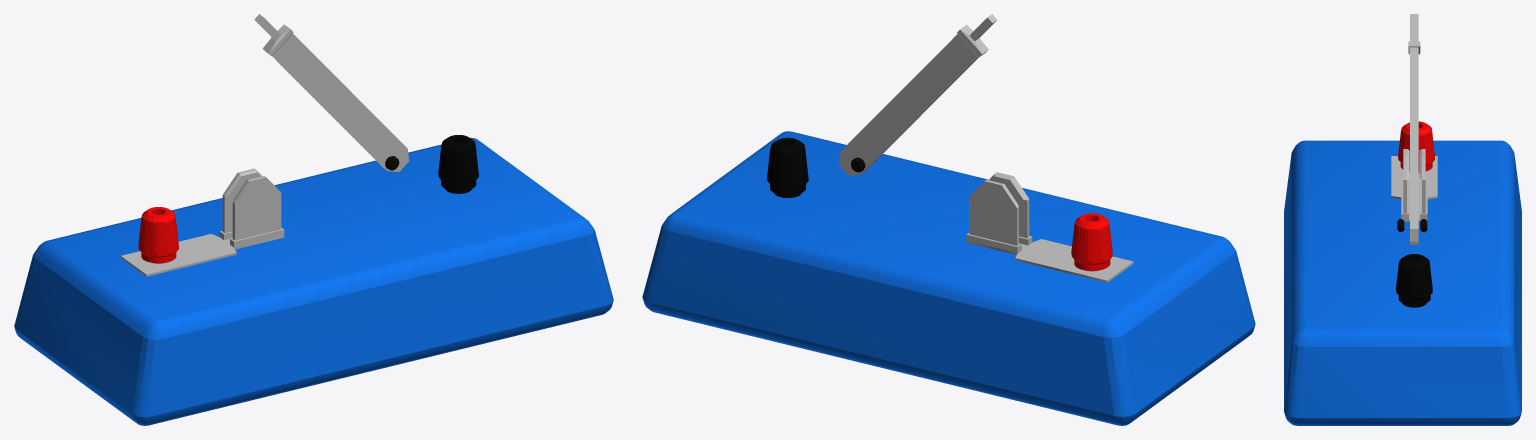
File: key 1.FBX
3 views of the same model, side by side, from view 1: azimuth 30°, elevation 25°; view 2: azimuth 150°, elevation 25°; view 3: azimuth 270°, elevation 25° (orthographic). The views are drawn at different scales.
Parts seen in each view (by area): view 1: ChamferBox003, Box001, Box003, Cylinder011, Cylinder012; view 2: ChamferBox003, Box001, Box003, Cylinder011, Cylinder012; view 3: ChamferBox003, Box003, Box001, Cylinder011, Cylinder012.
Part boxes in pixels (bbox=[...]): ChamferBox003: bbox=[14, 137, 613, 425]; Box001: bbox=[120, 168, 284, 276]; Box003: bbox=[254, 14, 409, 171]; Cylinder011: bbox=[438, 135, 478, 193]; Cylinder012: bbox=[138, 207, 178, 263]; ChamferBox003: bbox=[642, 131, 1255, 425]; Box001: bbox=[966, 172, 1133, 282]; Box003: bbox=[838, 14, 996, 175]; Cylinder011: bbox=[767, 137, 808, 197]; Cylinder012: bbox=[1071, 213, 1112, 271]; ChamferBox003: bbox=[1284, 140, 1521, 425]; Box003: bbox=[1408, 14, 1420, 244]; Box001: bbox=[1391, 149, 1437, 221]; Cylinder011: bbox=[1396, 254, 1432, 307]; Cylinder012: bbox=[1398, 121, 1434, 172].
Bounding box in the file's own units: 5409 × 3423 × 2547.
